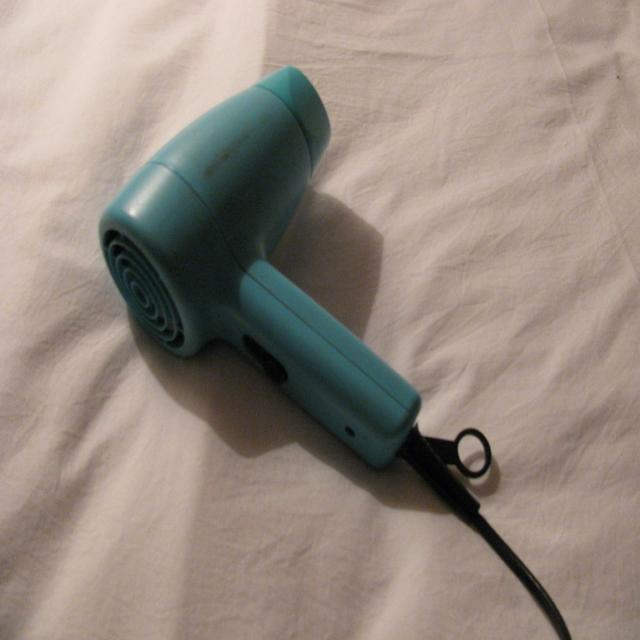dryer: (80, 48, 524, 546)
